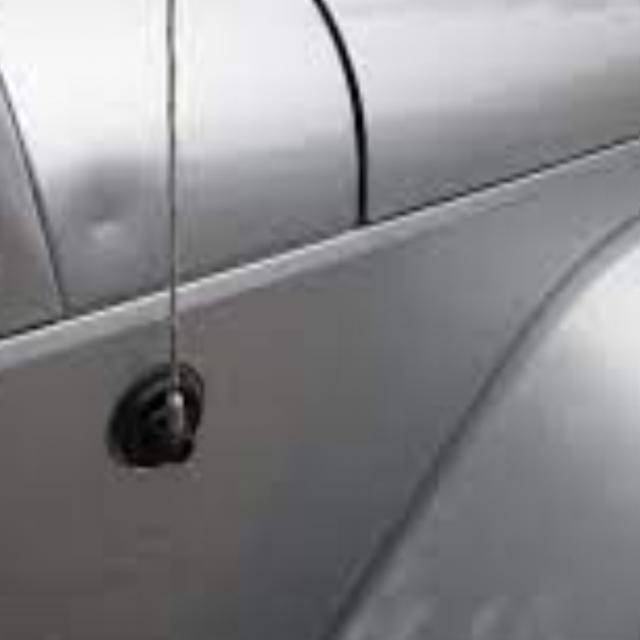dents: (67, 183, 178, 286)
